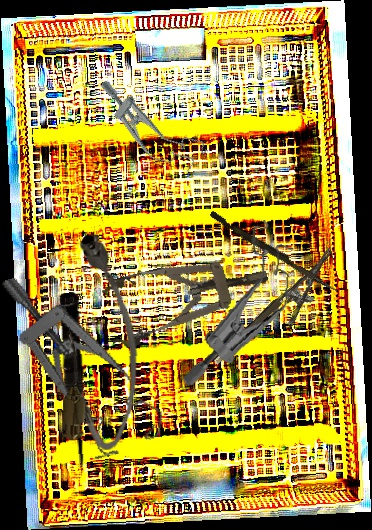Cannula: (61, 231, 142, 452)
Micro Scissor: (54, 291, 91, 475)
Needle Holder: (210, 247, 352, 381)
Pusher: (207, 210, 341, 294)
Speculum: (0, 248, 170, 473), (181, 213, 298, 394), (97, 242, 277, 352), (84, 71, 211, 184)
